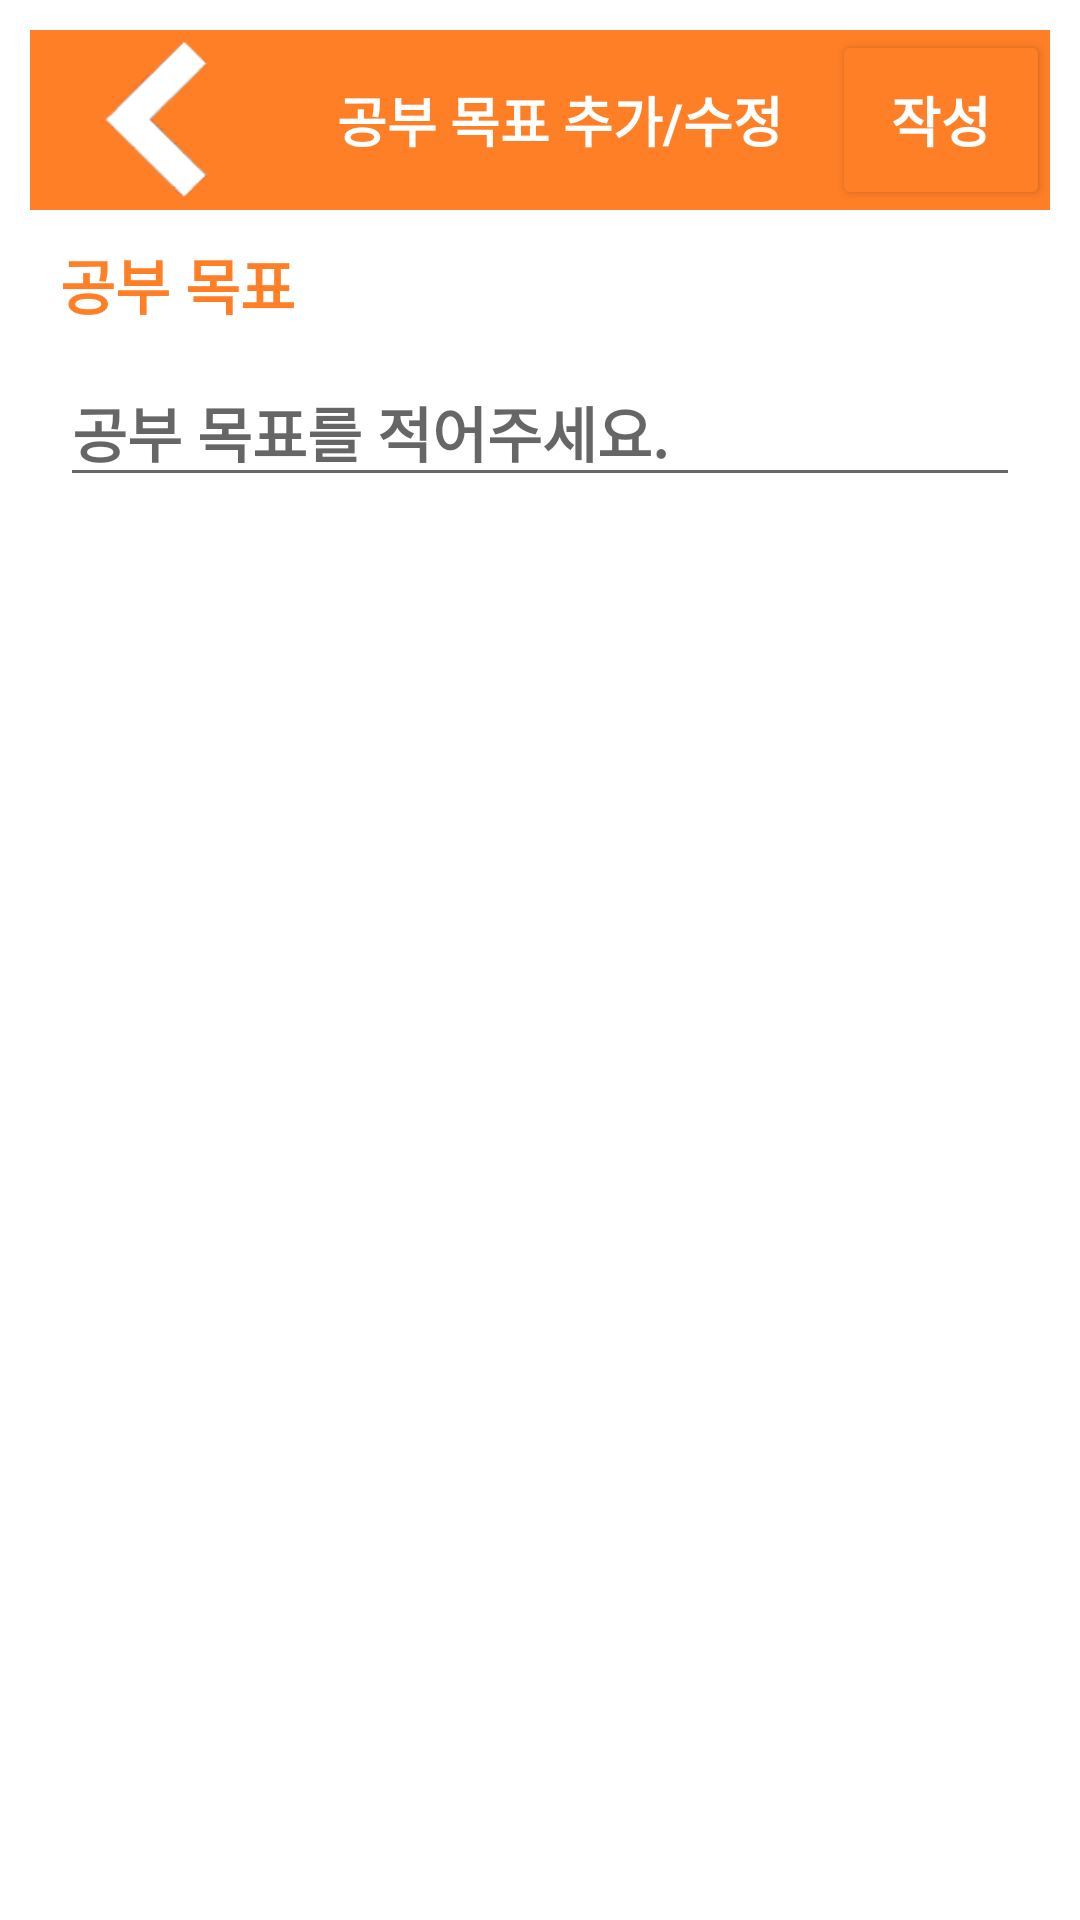

Icon bounding boxes for this 1080×1920 phone screenshot, format (x1, y1, x2, y2):
backicon: (30, 30, 288, 210)
